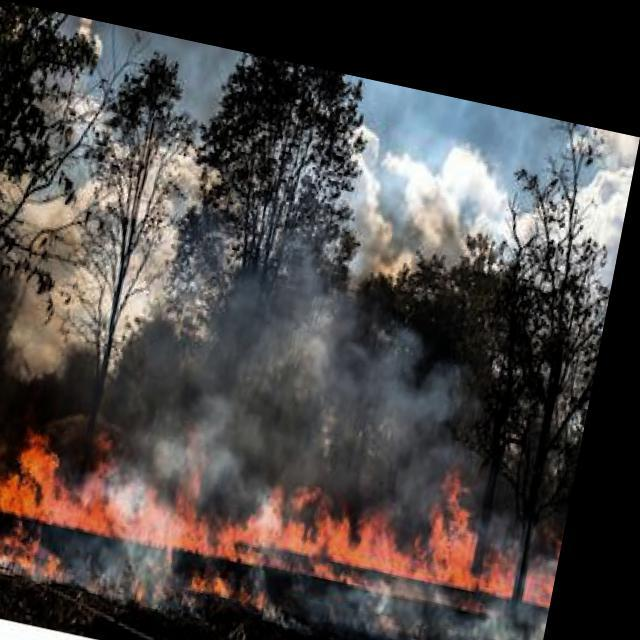Fire: (0, 369, 581, 639)
